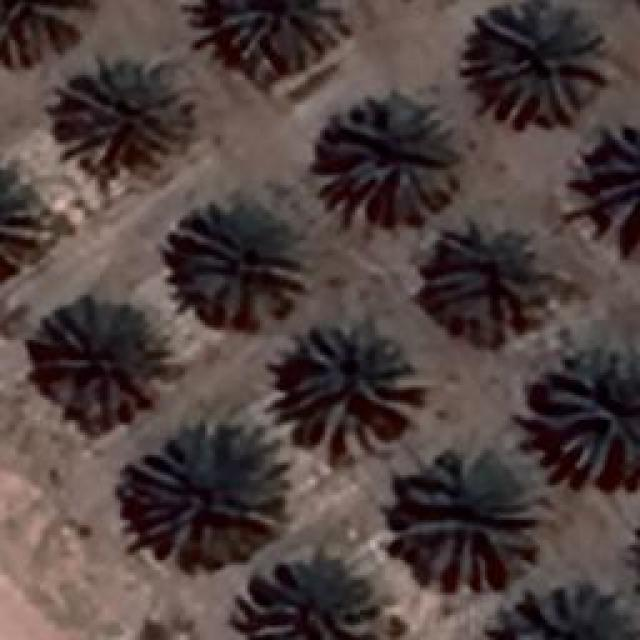PalmTree: (122, 420, 282, 562), (390, 448, 535, 590), (280, 320, 422, 462), (318, 95, 462, 223), (52, 49, 192, 172), (465, 2, 605, 122), (180, 208, 308, 328), (40, 307, 158, 425), (538, 342, 638, 480), (424, 220, 548, 330), (232, 555, 390, 635), (210, 0, 347, 62), (500, 580, 635, 635), (0, 152, 48, 270), (592, 120, 638, 238), (0, 0, 85, 62)
